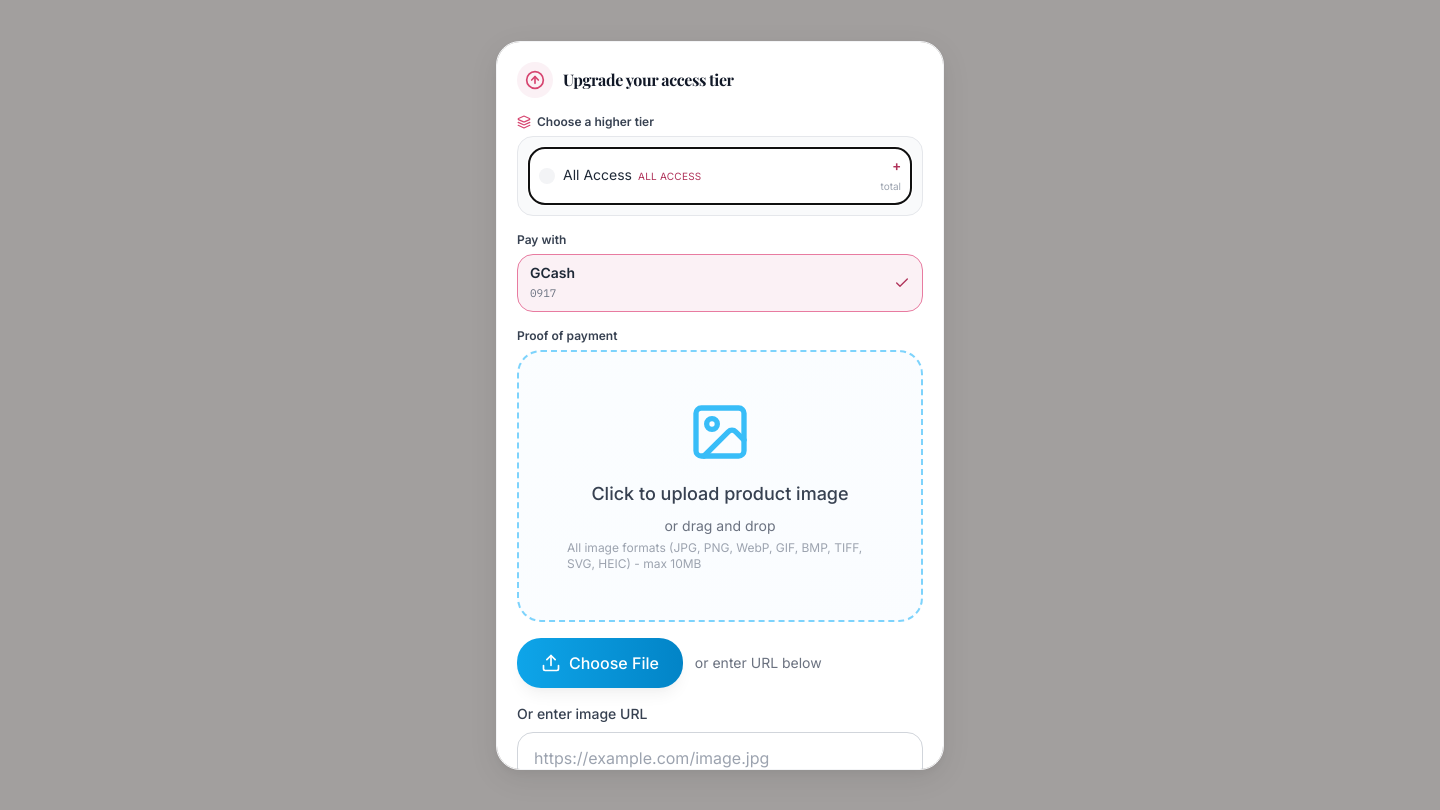
Test: UpgradeTierModal › blocks submit until a payment proof is attached
Click the button "All Access": point(597, 174) x1=528 y1=146 x2=912 y2=204
(page scrolled)
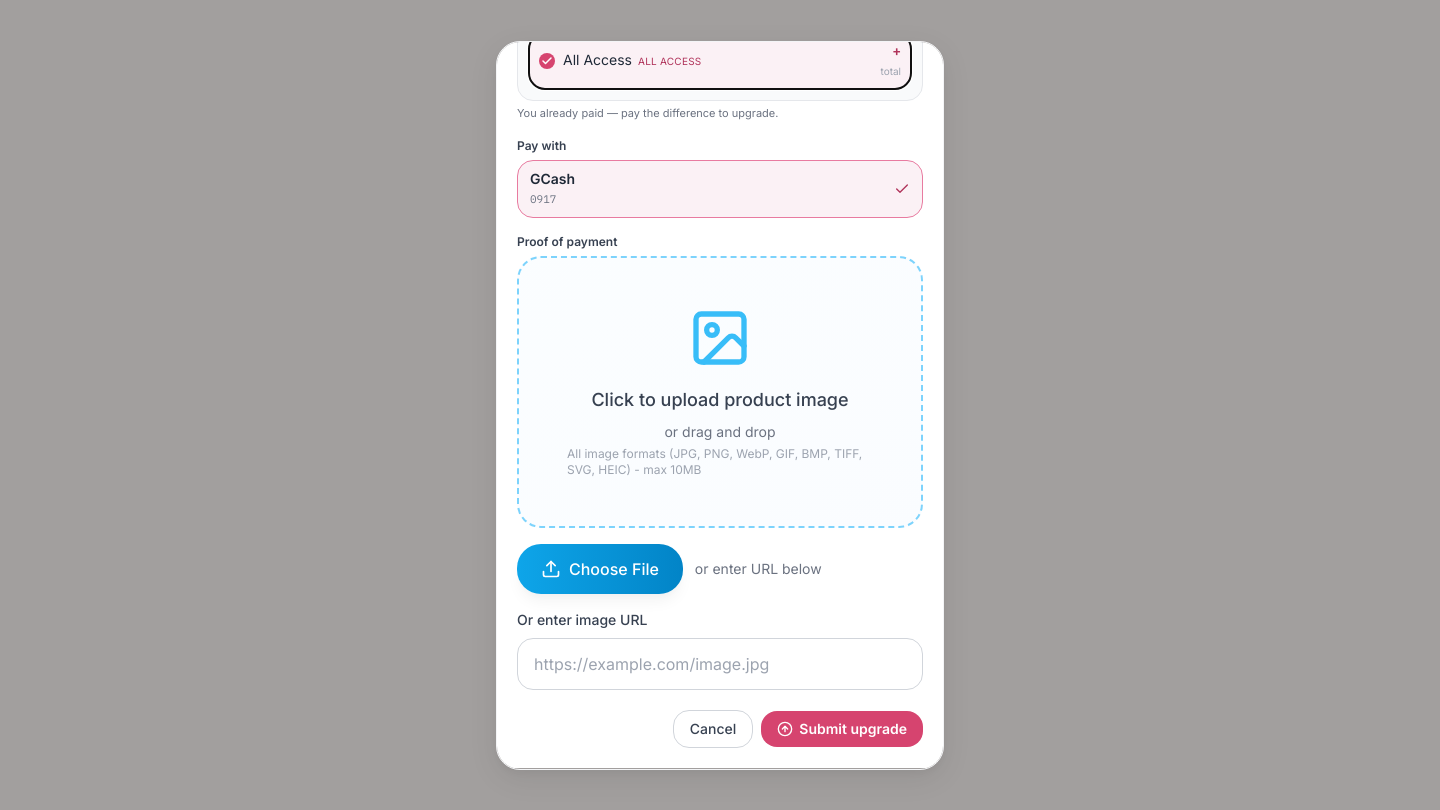
Click the button "Submit upgrade": point(842, 729) x1=761 y1=711 x2=923 y2=747
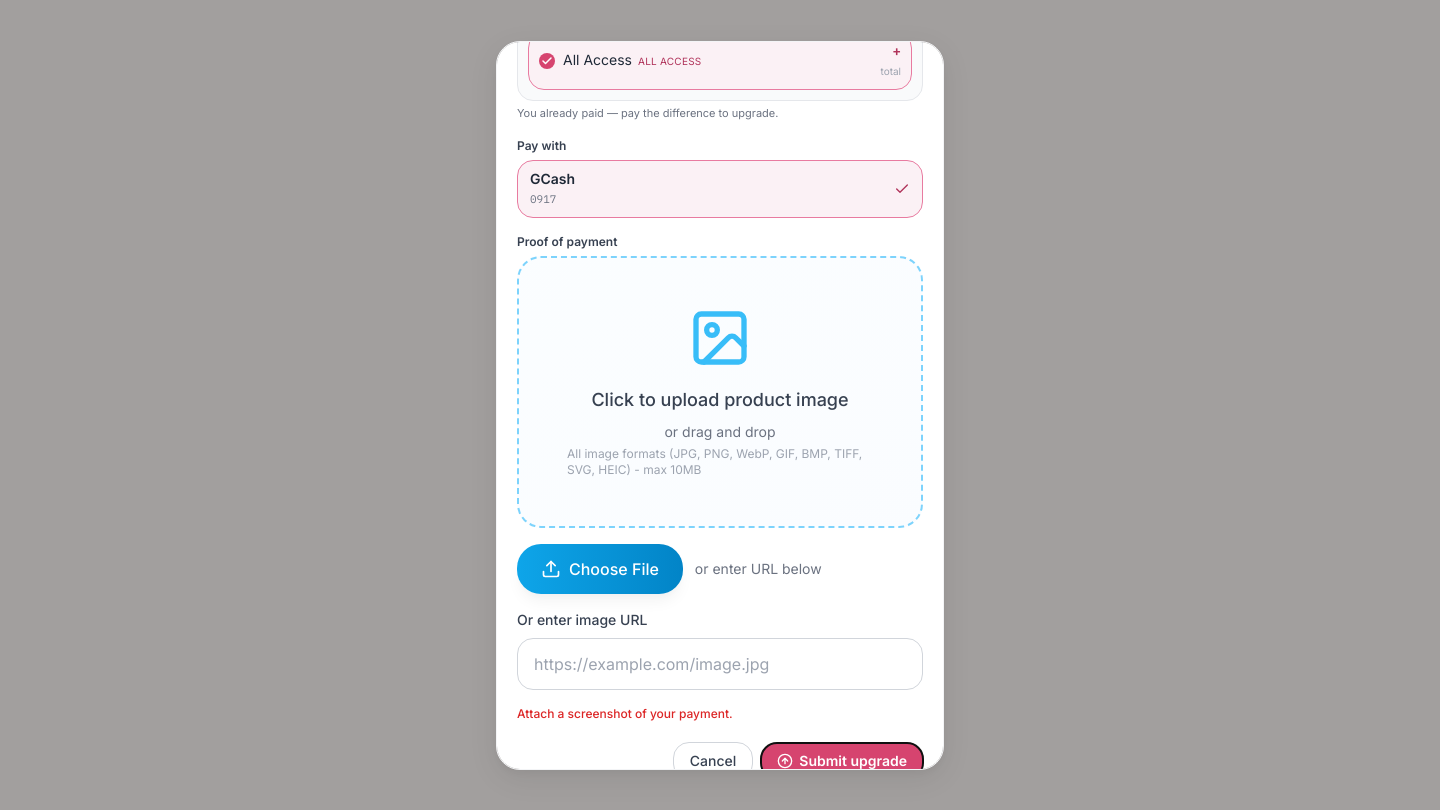
Result: the text "Attach a screenshot of your payment." is shown at x1=517 y1=706 x2=733 y2=721
